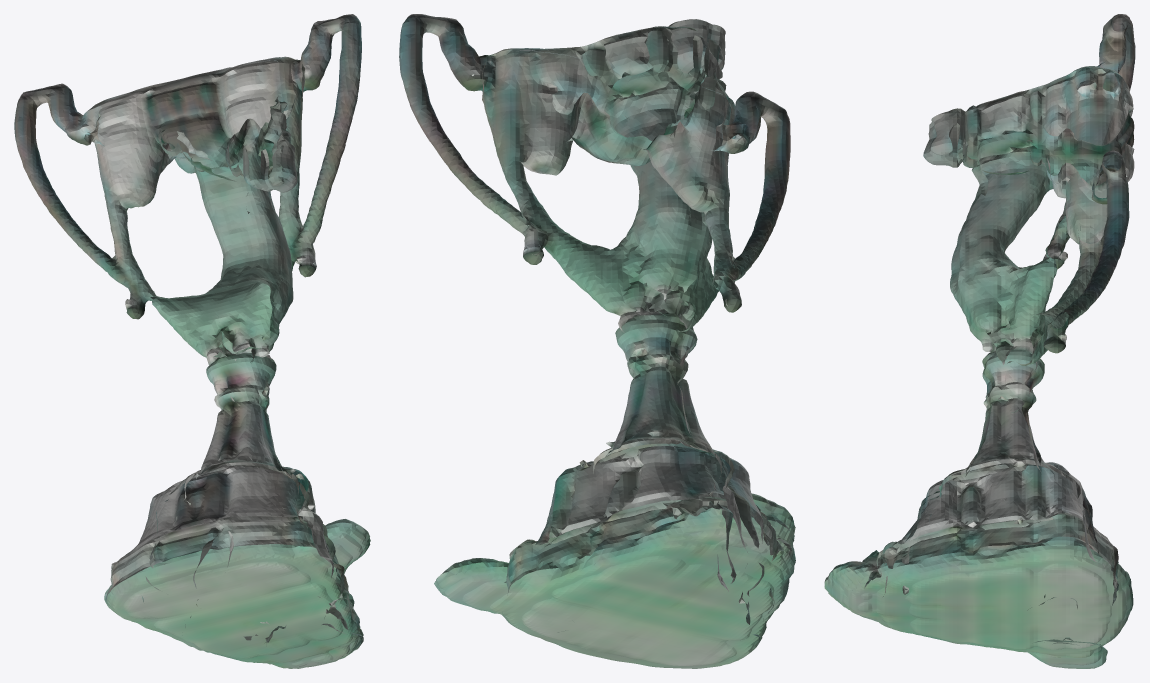
3 views of the same model, side by side, from view 1: azimuth 30°, elevation 25°; view 2: azimuth 150°, elevation 25°; view 3: azimuth 270°, elevation 25° (orthographic). The views are drawn at different scales.
Visible parts, largest first — view 1: geometry_0; view 2: geometry_0; view 3: geometry_0.
Boxes of the visible parts, x1,y1,x2,y2 form: geometry_0: (14,14,370,668); geometry_0: (399,14,795,668); geometry_0: (824,14,1135,668).
Size of the model in its own units: 1.1 by 1.6 by 0.8638.
